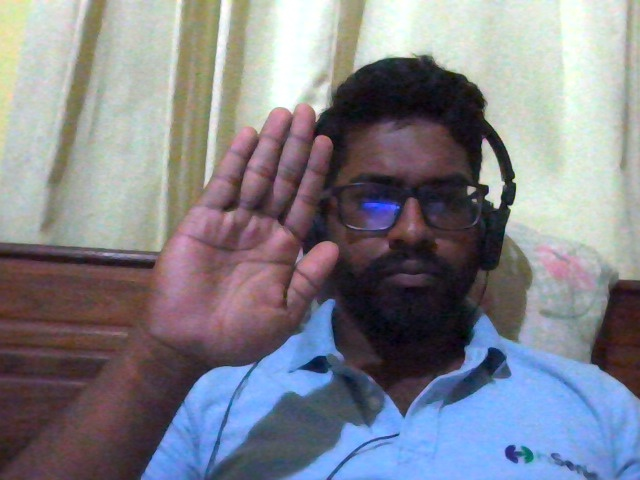Hello: (135, 94, 341, 372)
